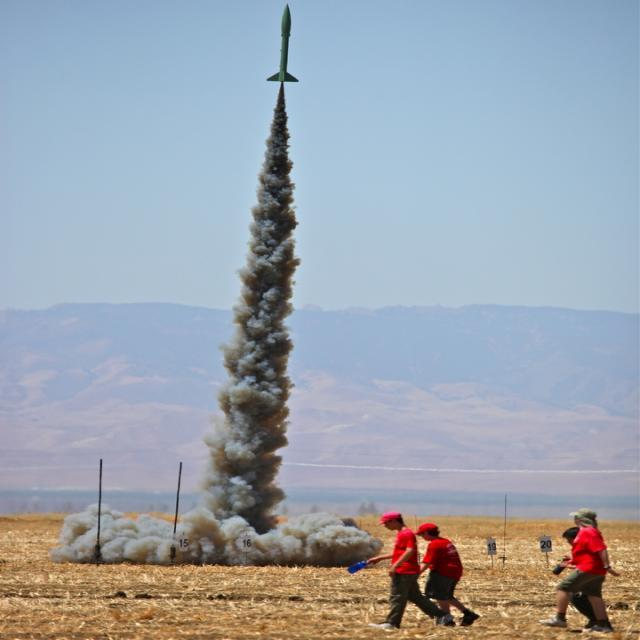missile: (267, 2, 295, 83)
